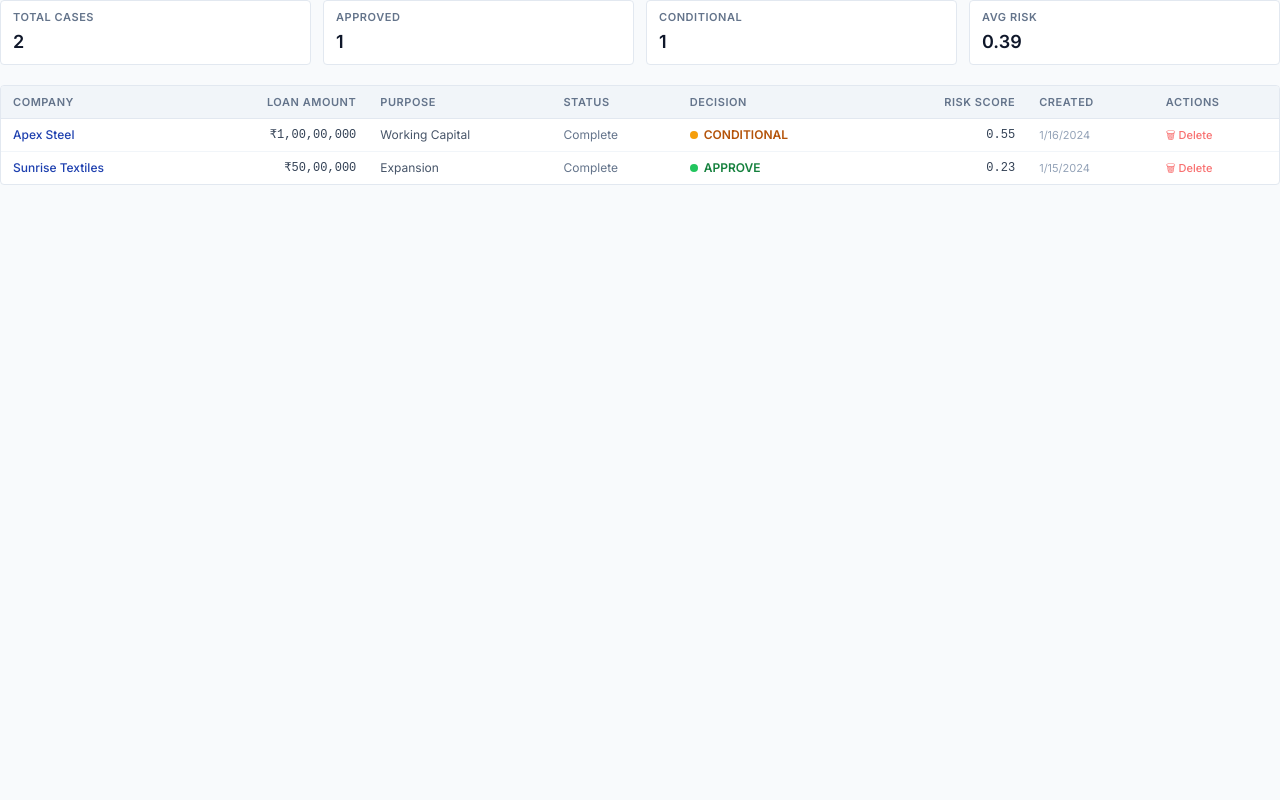
CaseList delete column › cancel button closes the modal without deleting
This screenshot has width=1280, height=800.
Click the button "🗑 Delete" in the row of "Apex Steel" at (1189, 134), box [1166, 126, 1212, 142]
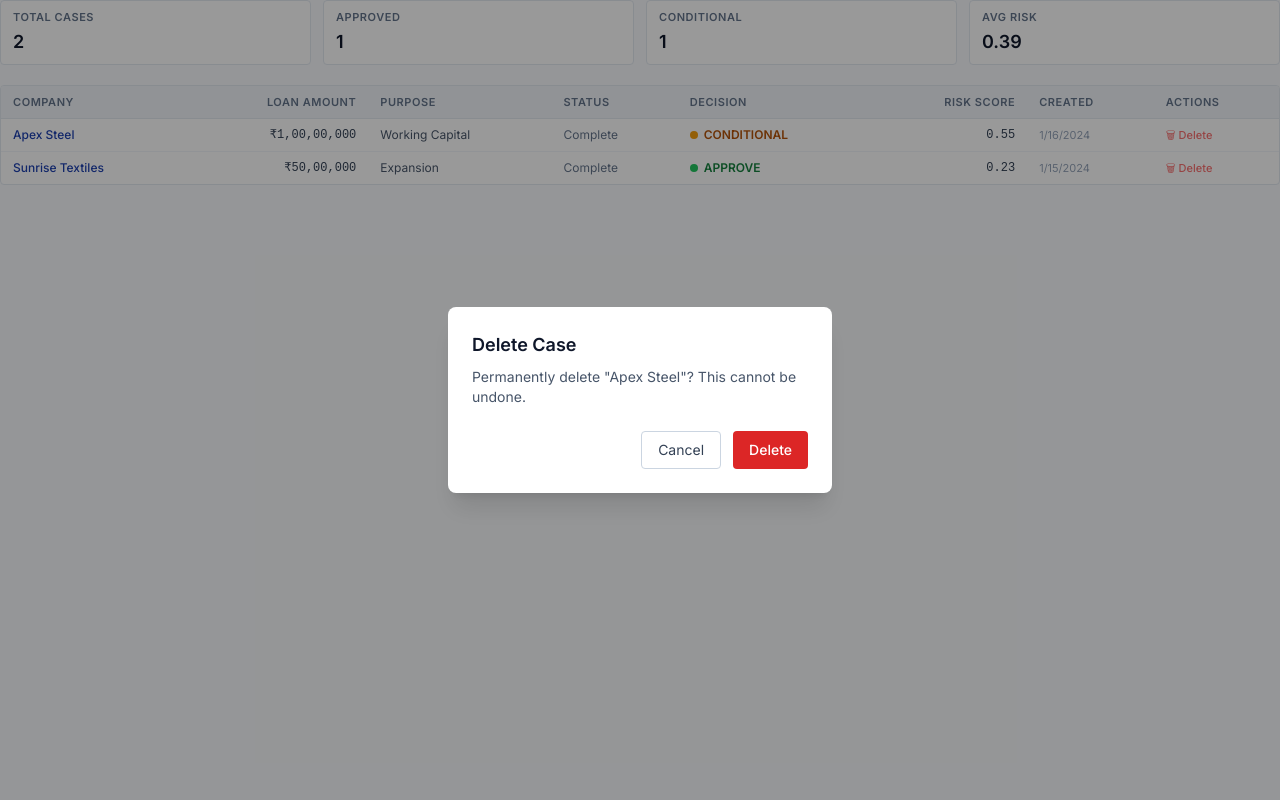
Click the button "Cancel" at (681, 450), box [641, 431, 721, 469]
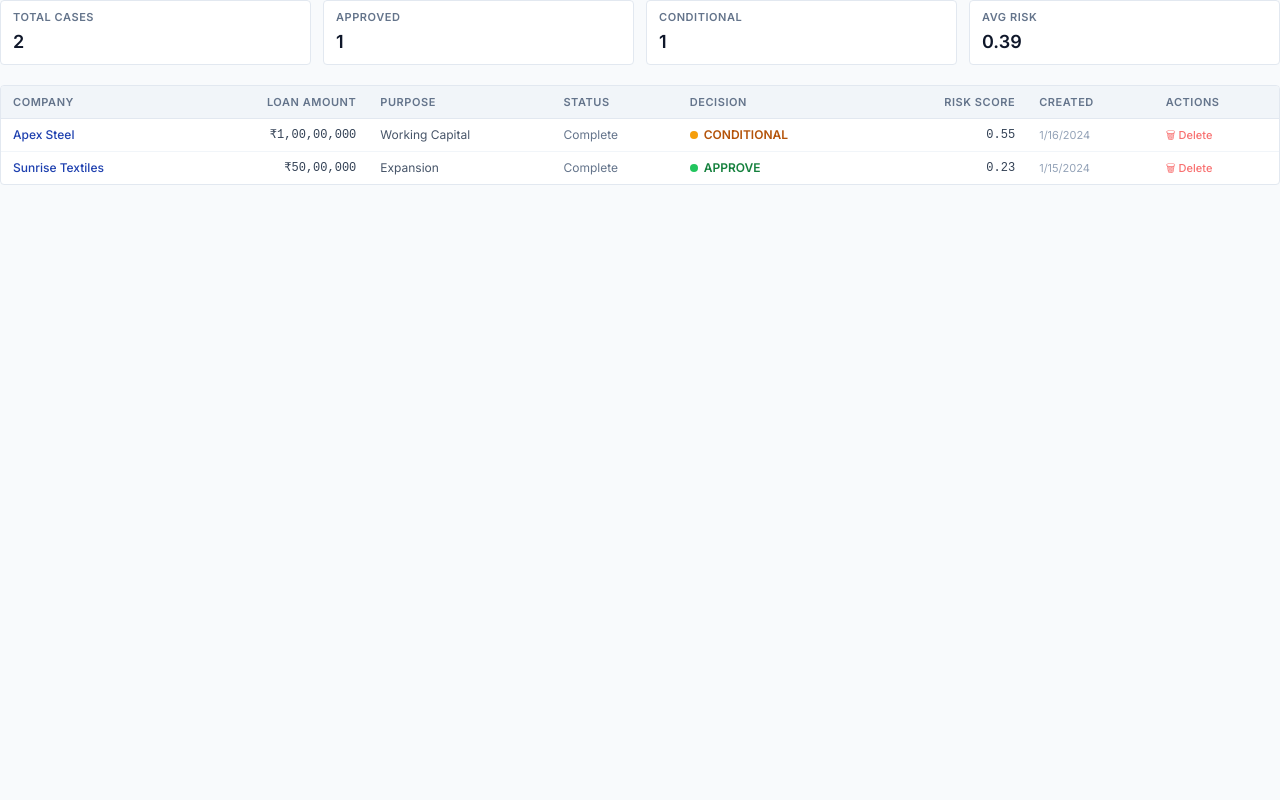
Now the heading "Delete Case" is gone
